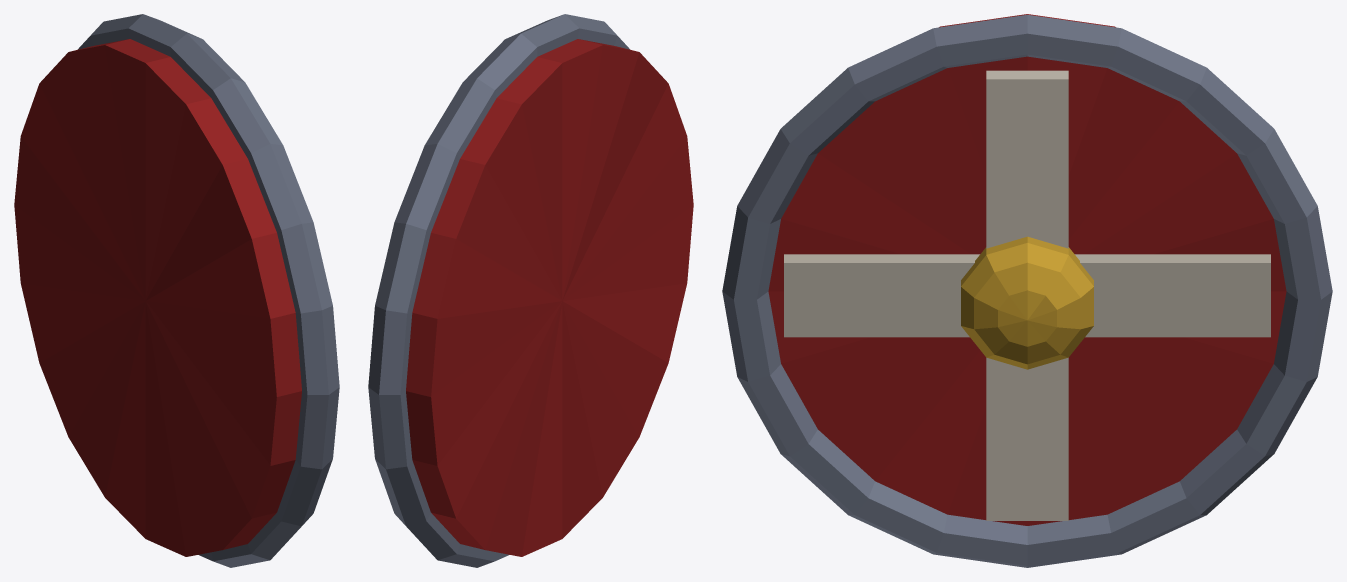
File: i_shield.glb
3 views of the same model, side by side, from view 1: azimuth 30°, elevation 25°; view 2: azimuth 150°, elevation 25°; view 3: azimuth 270°, elevation 25° (orthographic). The views are drawn at different scales.
Visible parts, largest first — view 1: i_shield; view 2: i_shield; view 3: i_shield.
Boxes of the visible parts, x1,y1,x2,y2 form: i_shield: [14, 14, 339, 567]; i_shield: [368, 14, 693, 567]; i_shield: [722, 14, 1332, 567].
Size of the model in its own units: 0.234 by 1.19 by 1.19.
